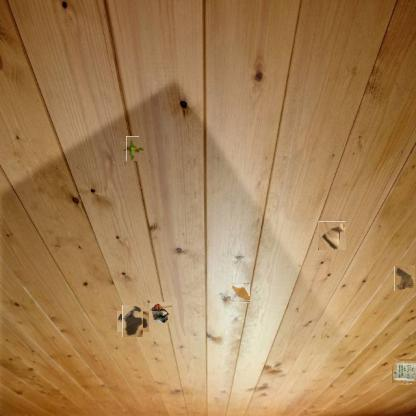dirty: (318, 221, 346, 250), (392, 360, 416, 384), (394, 265, 415, 291), (150, 302, 172, 324), (123, 139, 142, 158)
liquid: (120, 308, 146, 335), (231, 284, 249, 302)
